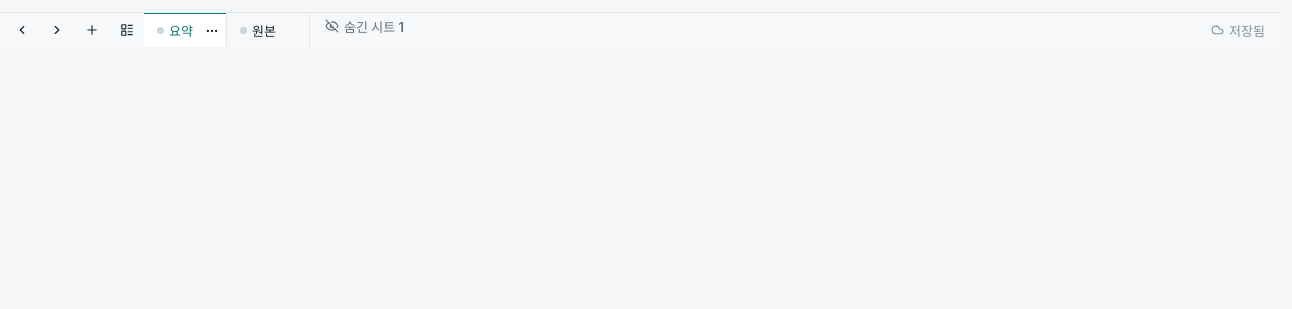
Test: SheetTabs context menu › opens on right click for a tab that is not active and selects it first
Right-click the button "원본": (268, 30) [227,13,309,47]
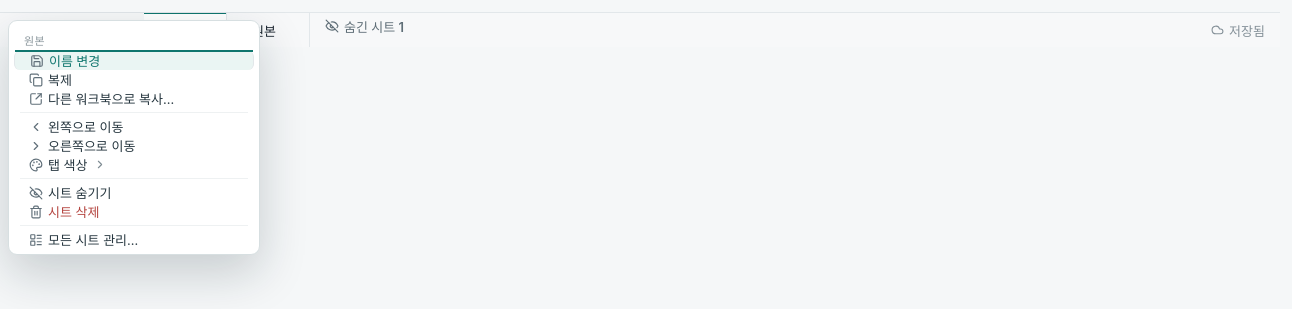
Now the menu named "원본 시트 메뉴" is shown, box [14,26,254,249]
Now the menu item "복제" is shown, box [14,70,254,89]
